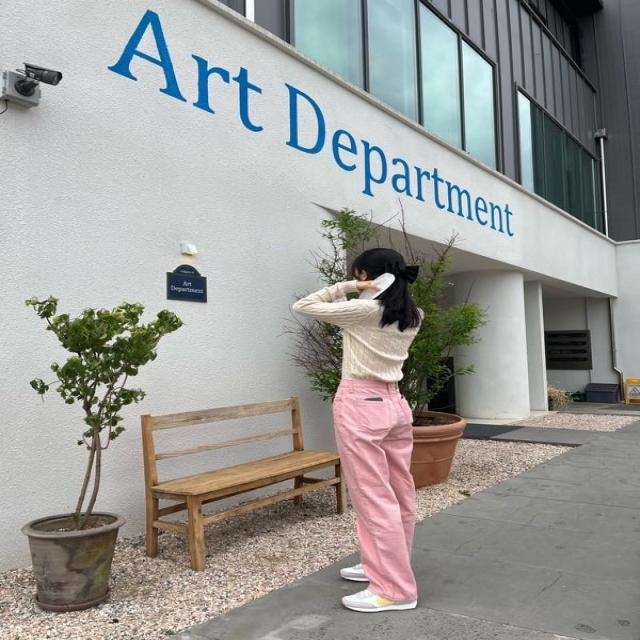cardigan: (289, 277, 420, 385)
cottonpants: (336, 378, 420, 602)
